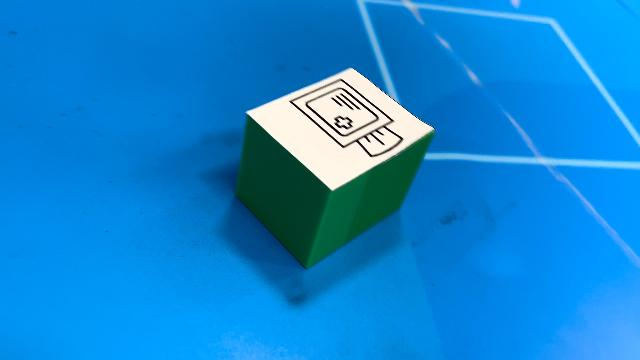napkin: (237, 68, 436, 270)
